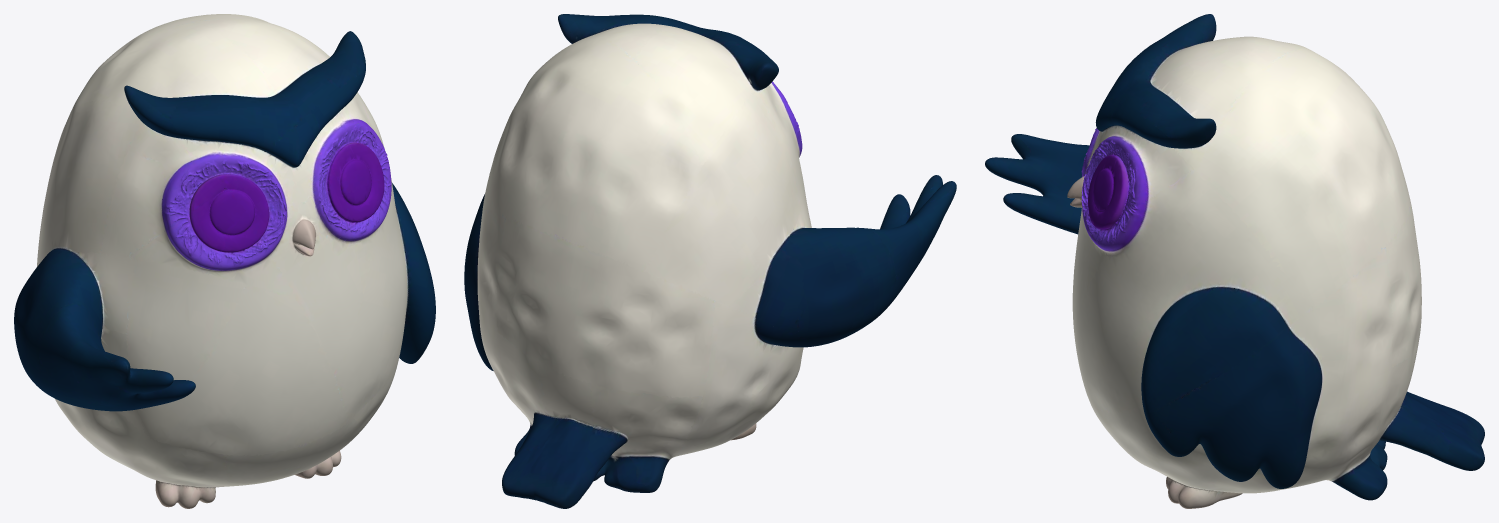
The model's file is owl-wing.glb.
3 renders of one model, left to right at view 1: azimuth 30°, elevation 25°; view 2: azimuth 150°, elevation 25°; view 3: azimuth 270°, elevation 25°, orthographic. The views are drawn at different scales.
Size of the model in its own units: 1.72 by 1.76 by 1.9.
Materials: 1 (1 with a texture image).
